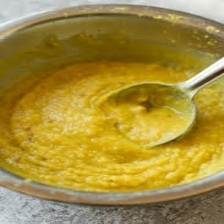dal: (0, 57, 224, 193)
